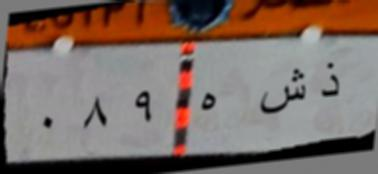0: (40, 108, 58, 138)
8: (78, 94, 116, 138)
9: (130, 82, 161, 132)
haa: (195, 78, 231, 120)
sheen: (262, 63, 309, 123)
zaal: (313, 59, 344, 108)
